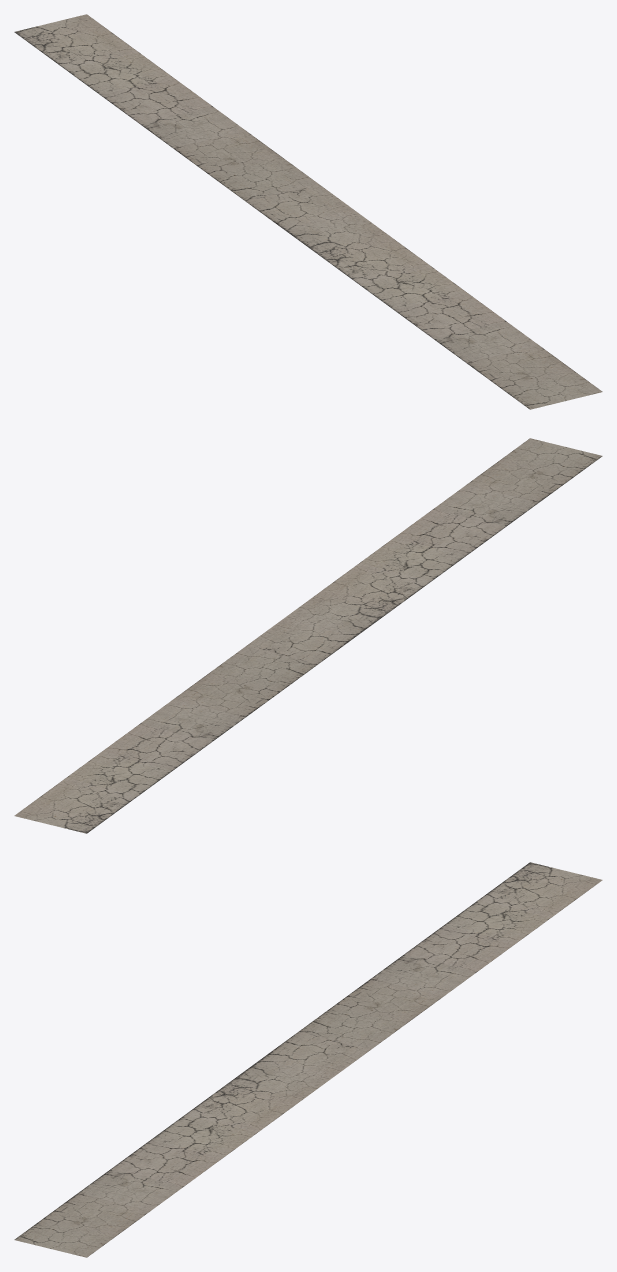
File: SM_RoadLine.fbx
3 views of the same model, one above another, from view 1: azimuth 30°, elevation 25°; view 2: azimuth 150°, elevation 25°; view 3: azimuth 330°, elevation 25° (orthographic).
Parts seen in each view (by area): view 1: SM_RoadLine.001; view 2: SM_RoadLine.001; view 3: SM_RoadLine.001.
Part boxes in pixels (bbox=[...]): SM_RoadLine.001: bbox=[14, 14, 602, 409]; SM_RoadLine.001: bbox=[14, 438, 602, 833]; SM_RoadLine.001: bbox=[14, 862, 602, 1257].
Bounding box in the file's own units: 0.3282 × 0 × 4.03.
